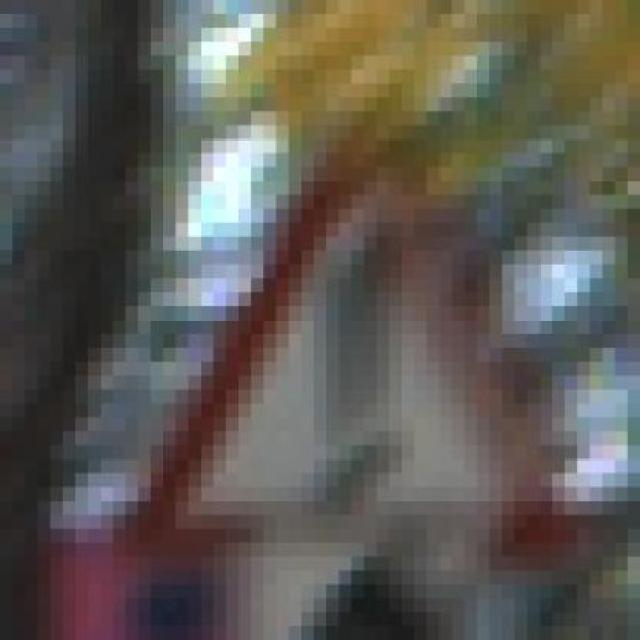Attention Please-: (91, 154, 594, 586)
